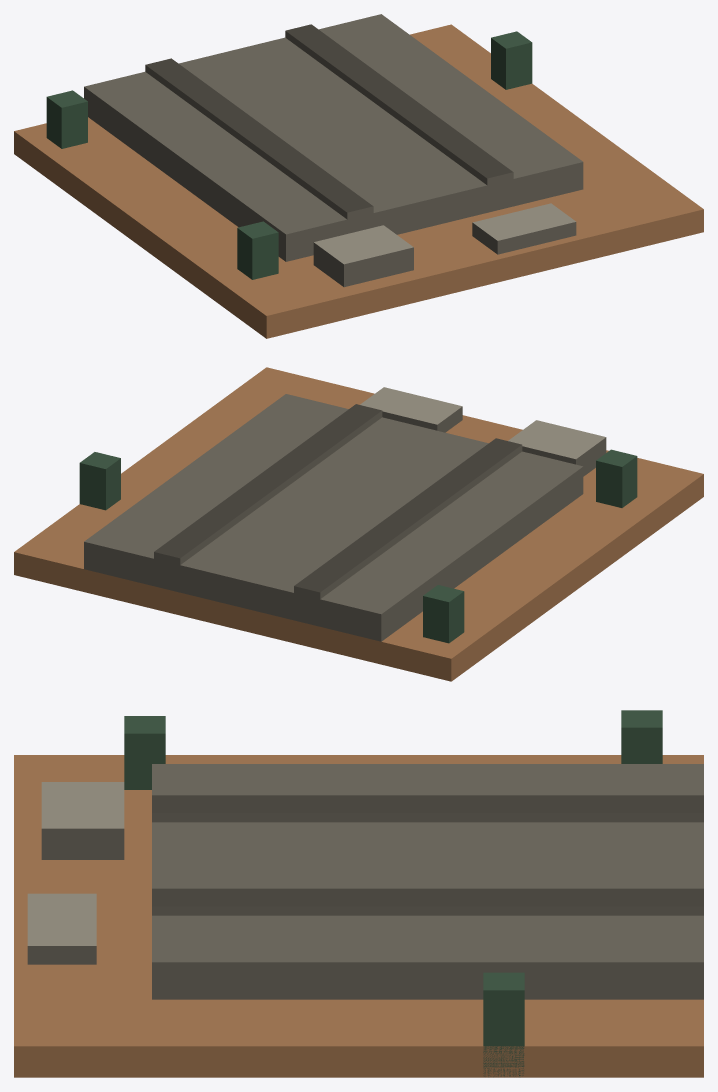
File: terr_ancientroad.glb
3 views of the same model, one above another, from view 1: azimuth 30°, elevation 25°; view 2: azimuth 150°, elevation 25°; view 3: azimuth 270°, elevation 25° (orthographic). The views are drawn at different scales.
Parts seen in each view (by area): view 1: terr_ancientroad; view 2: terr_ancientroad; view 3: terr_ancientroad.
Boxes of the visible parts, bbox=[...] form: terr_ancientroad: bbox=[14, 14, 703, 338]; terr_ancientroad: bbox=[14, 367, 703, 681]; terr_ancientroad: bbox=[14, 710, 703, 1077].
Size of the model in its own units: 1 by 0.14 by 1.
1 material, 1 textured.
